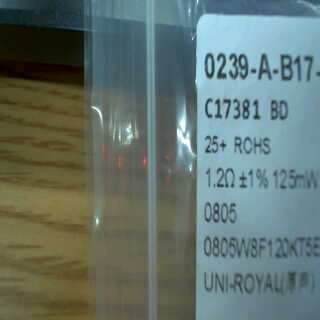1.2R: (200, 164, 239, 225)
